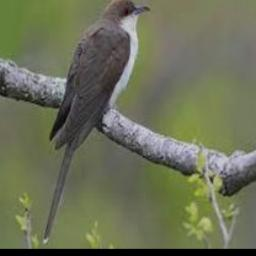Cuckoo: (42, 0, 149, 243)
